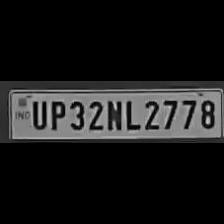2: (139, 97, 159, 131), (86, 97, 104, 131)
3: (66, 97, 83, 130)
7: (159, 97, 177, 130), (177, 97, 195, 130)
8: (196, 97, 216, 129)
L: (122, 97, 140, 131)
N: (104, 97, 122, 131)
P: (46, 97, 66, 130)
U: (28, 97, 46, 130)
